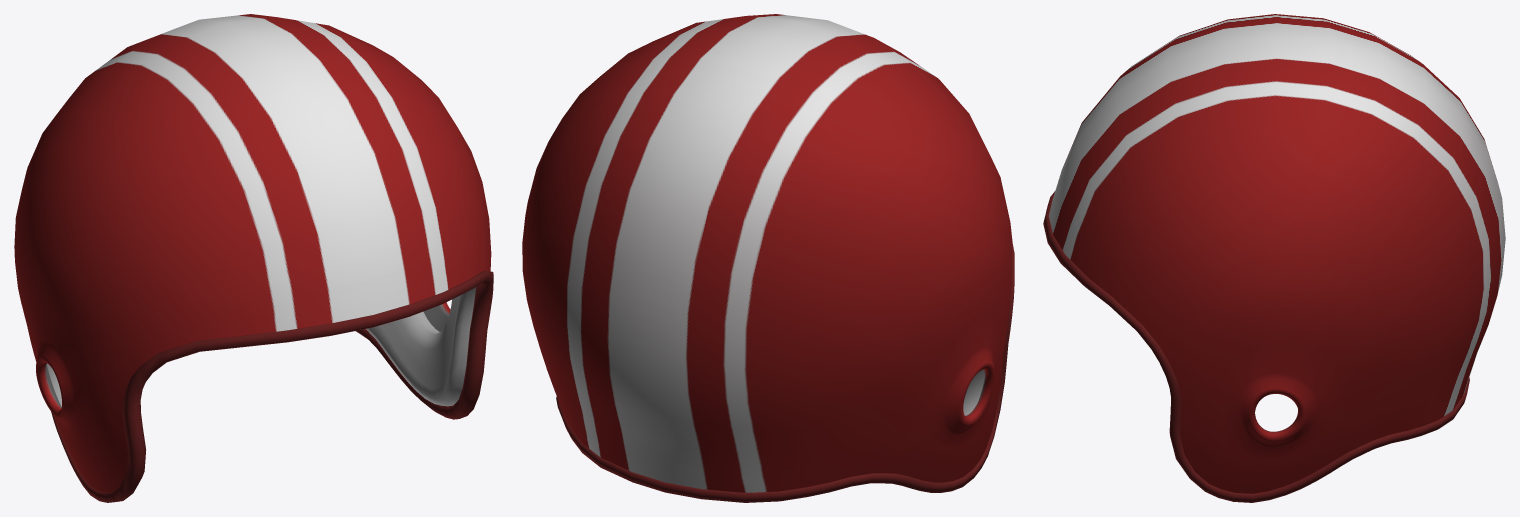
The model's file is helmet_mike.fbx.
The picture shows the model from 3 angles, left to right: view 1: azimuth 30°, elevation 25°; view 2: azimuth 150°, elevation 25°; view 3: azimuth 270°, elevation 25°; orthographic projection. The views are drawn at different scales.
Visible parts, largest first — view 1: Helmet1_mike; view 2: Helmet1_mike; view 3: Helmet1_mike.
Boxes of the visible parts, box(x1,y1,x2,y2) form: Helmet1_mike: box(14, 14, 493, 502); Helmet1_mike: box(522, 14, 1014, 502); Helmet1_mike: box(1043, 14, 1505, 502).
Size of the model in its own units: 41.92 by 38.84 by 42.27.
